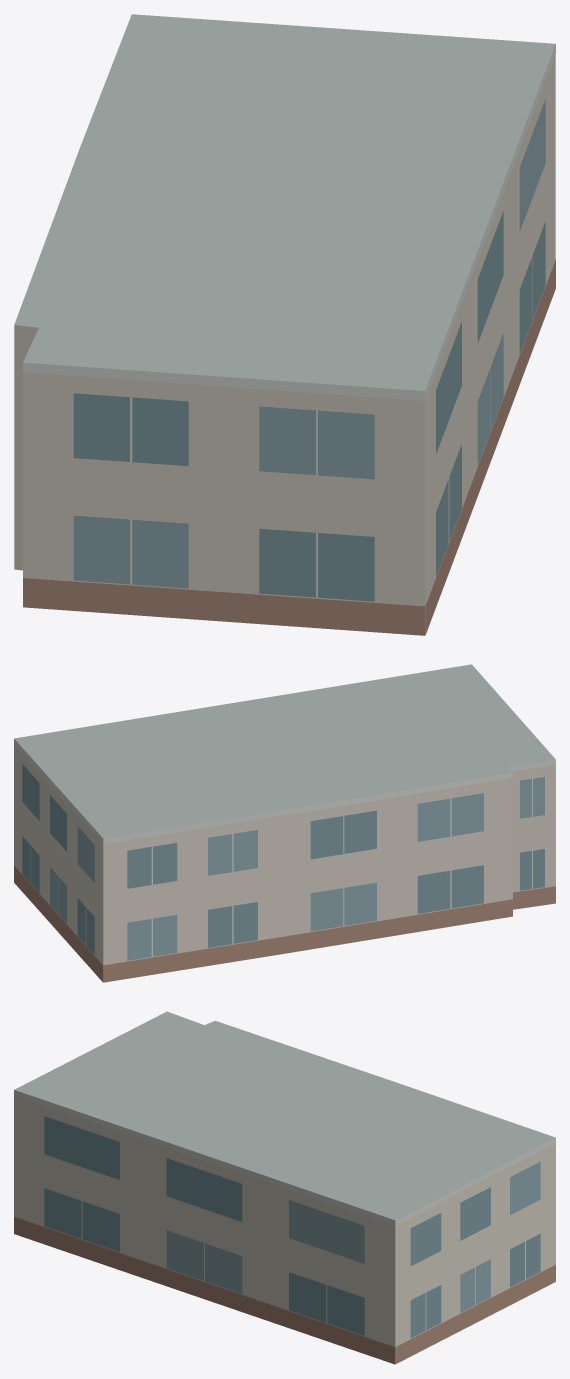
Rendered from survey-upis-32677853.glb.
3 renders of one model, top to bottom at view 1: azimuth 30°, elevation 25°; view 2: azimuth 150°, elevation 25°; view 3: azimuth 270°, elevation 25°, orthographic. The views are drawn at different scales.
Visible parts, largest first — view 1: survey-upis-32677853.tmp; view 2: survey-upis-32677853.tmp; view 3: survey-upis-32677853.tmp.
Part boxes in pixels (box(x1,y1,x2,y2)): survey-upis-32677853.tmp: box(14, 14, 555, 635); survey-upis-32677853.tmp: box(14, 664, 555, 982); survey-upis-32677853.tmp: box(14, 1011, 555, 1364).
Bounding box in the file's own units: 18.96 × 6.1 × 20.78.
